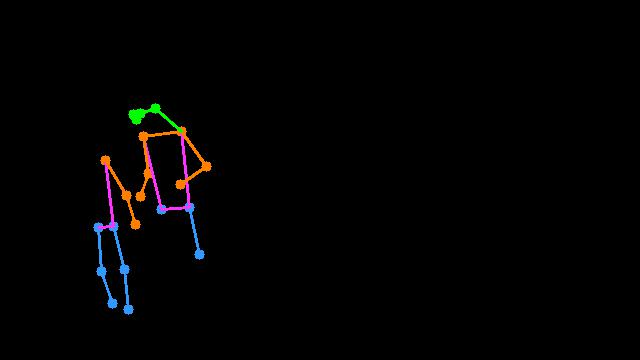normal: (77, 94, 215, 332)
